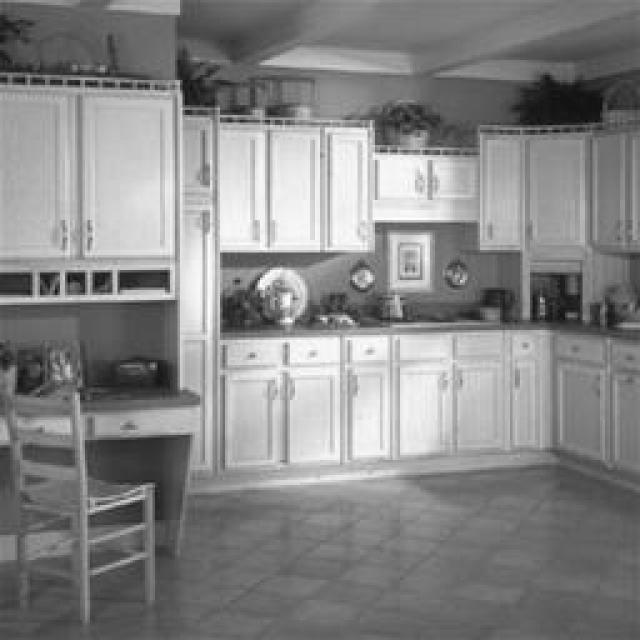chair: (0, 382, 156, 626)
